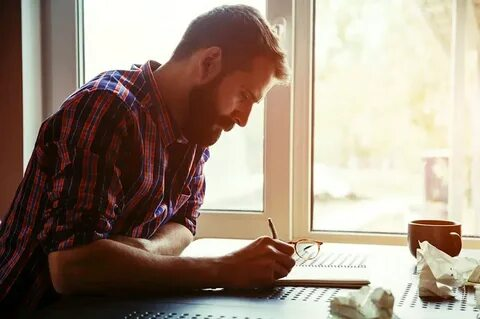awake: (1, 2, 297, 297)
